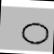no answer: (18, 20, 52, 46)
